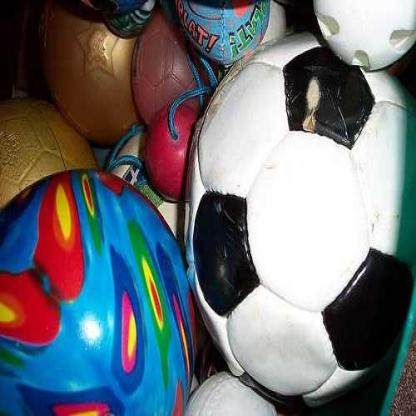ball: (184, 27, 416, 408), (0, 170, 196, 416), (40, 0, 139, 146), (175, 0, 270, 64)
